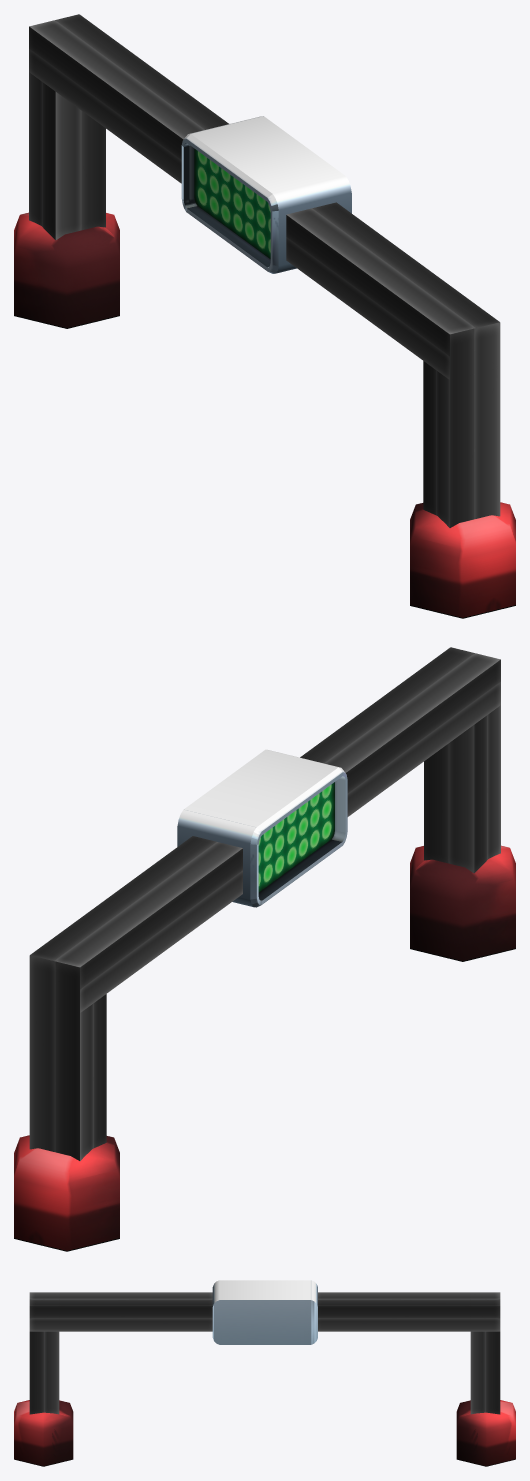
The model's file is Am_Goal_low.FBX.
The picture shows the model from 3 angles, top to bottom: view 1: azimuth 30°, elevation 25°; view 2: azimuth 150°, elevation 25°; view 3: azimuth 270°, elevation 25°; orthographic projection. The views are drawn at different scales.
Visible parts, largest first — view 1: Am_Goal1, Am_Goal2; view 2: Am_Goal1, Am_Goal2; view 3: Am_Goal1.
Part boxes in pixels (x1=…): Am_Goal1: x1=14, y1=14, x2=515, y2=618; Am_Goal2: x1=194, y1=148, x2=270, y2=258; Am_Goal1: x1=14, y1=647, x2=515, y2=1251; Am_Goal2: x1=258, y1=782, x2=334, y2=892; Am_Goal1: x1=14, y1=1280, x2=515, y2=1466.
Bounding box in the file's own units: 563 × 4125 × 1480.
